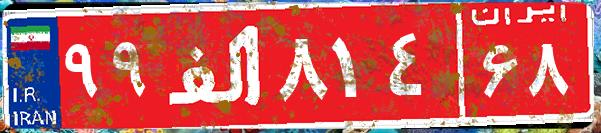1: (330, 28, 385, 110)
4: (385, 28, 445, 110)
6: (475, 38, 525, 113)
8: (273, 28, 330, 110), (525, 38, 570, 115)
9: (57, 26, 110, 107), (110, 28, 158, 105)
الف: (158, 15, 273, 115)
